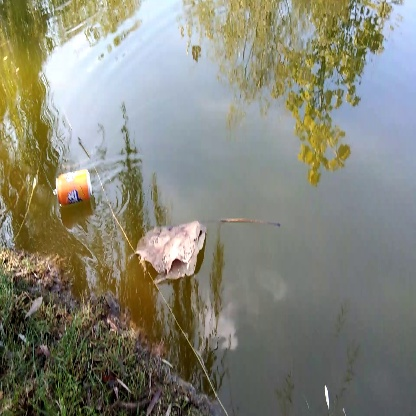bottle: (52, 165, 103, 210)
leaf: (135, 217, 240, 285)
